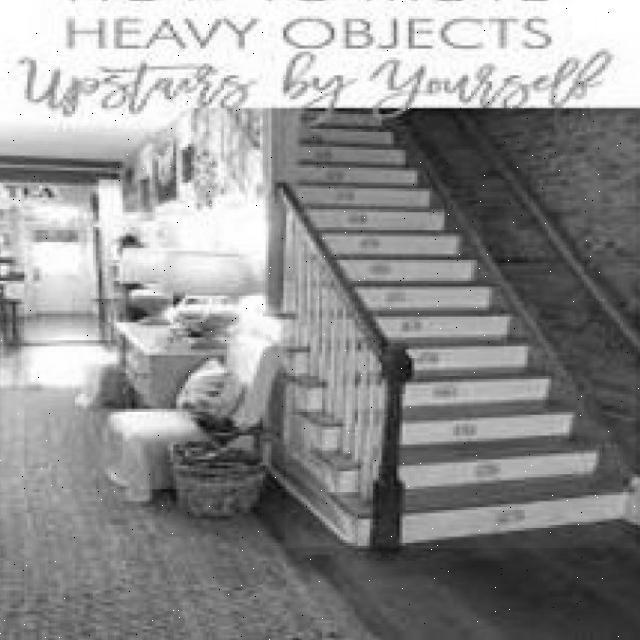stair: (285, 116, 636, 548)
